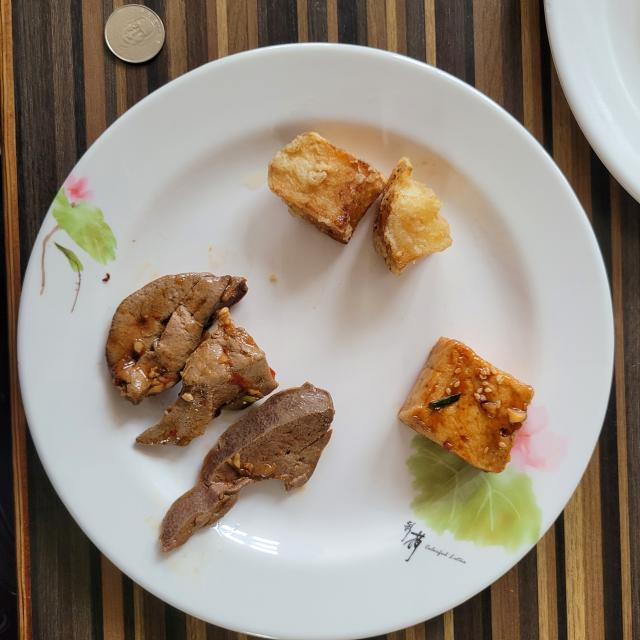coin: (105, 4, 165, 62)
creamy tofu: (399, 338, 534, 472)
fried potato: (268, 132, 452, 275)
pig liver: (106, 272, 278, 446), (160, 382, 334, 551)
